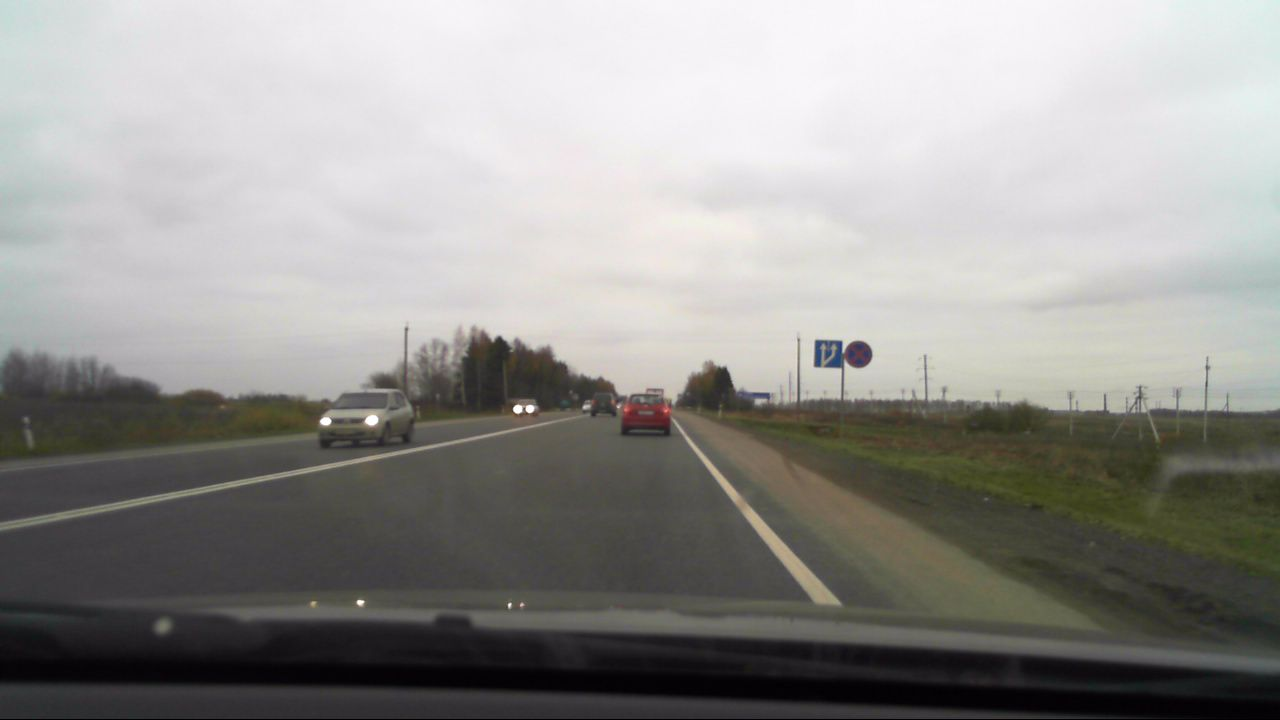No Parking: (843, 339, 873, 370)
